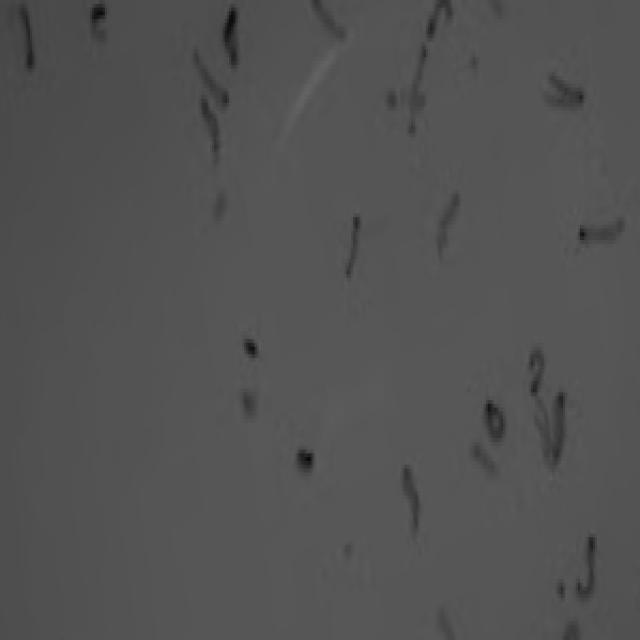larvas: (190, 48, 232, 113), (199, 97, 223, 159), (437, 190, 460, 253), (578, 216, 626, 244), (312, 0, 346, 38), (576, 536, 596, 597), (403, 466, 421, 532), (541, 406, 560, 467), (427, 0, 453, 39), (223, 8, 240, 64), (388, 88, 427, 111), (549, 68, 581, 96), (346, 216, 361, 273), (485, 398, 506, 438), (20, 7, 34, 66), (527, 346, 543, 392), (544, 89, 584, 107), (474, 445, 498, 473), (555, 392, 564, 456), (91, 7, 107, 41), (563, 618, 581, 640)
